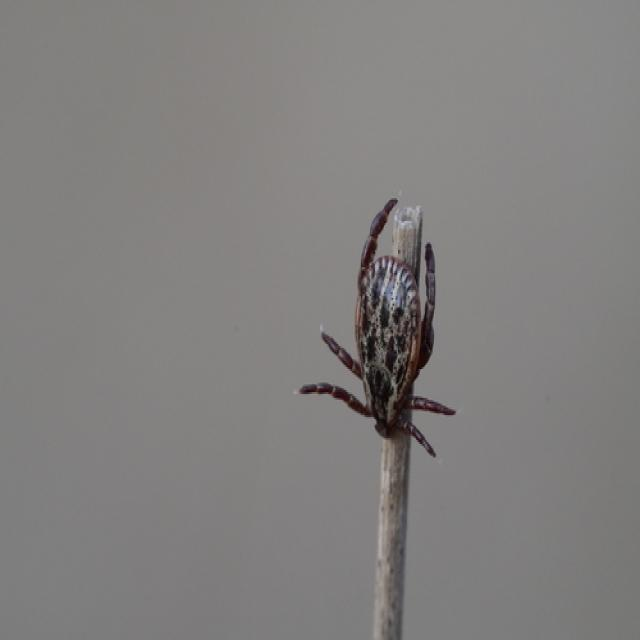Dermacentor Reticulatus-M: (300, 200, 457, 459)
